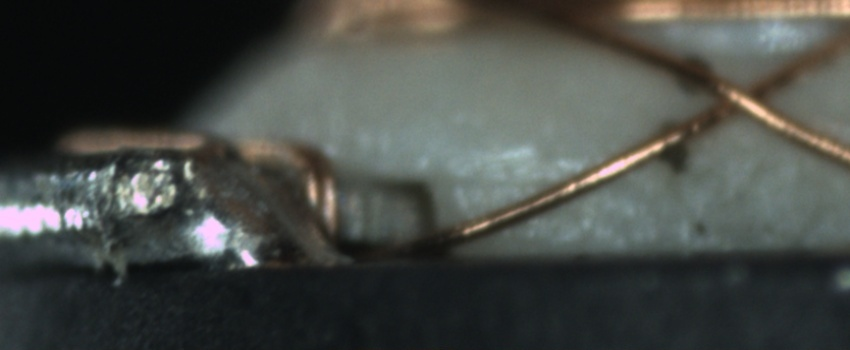CL: (690, 61, 792, 132)
DL: (447, 149, 581, 213)
TE: (49, 122, 337, 245)
